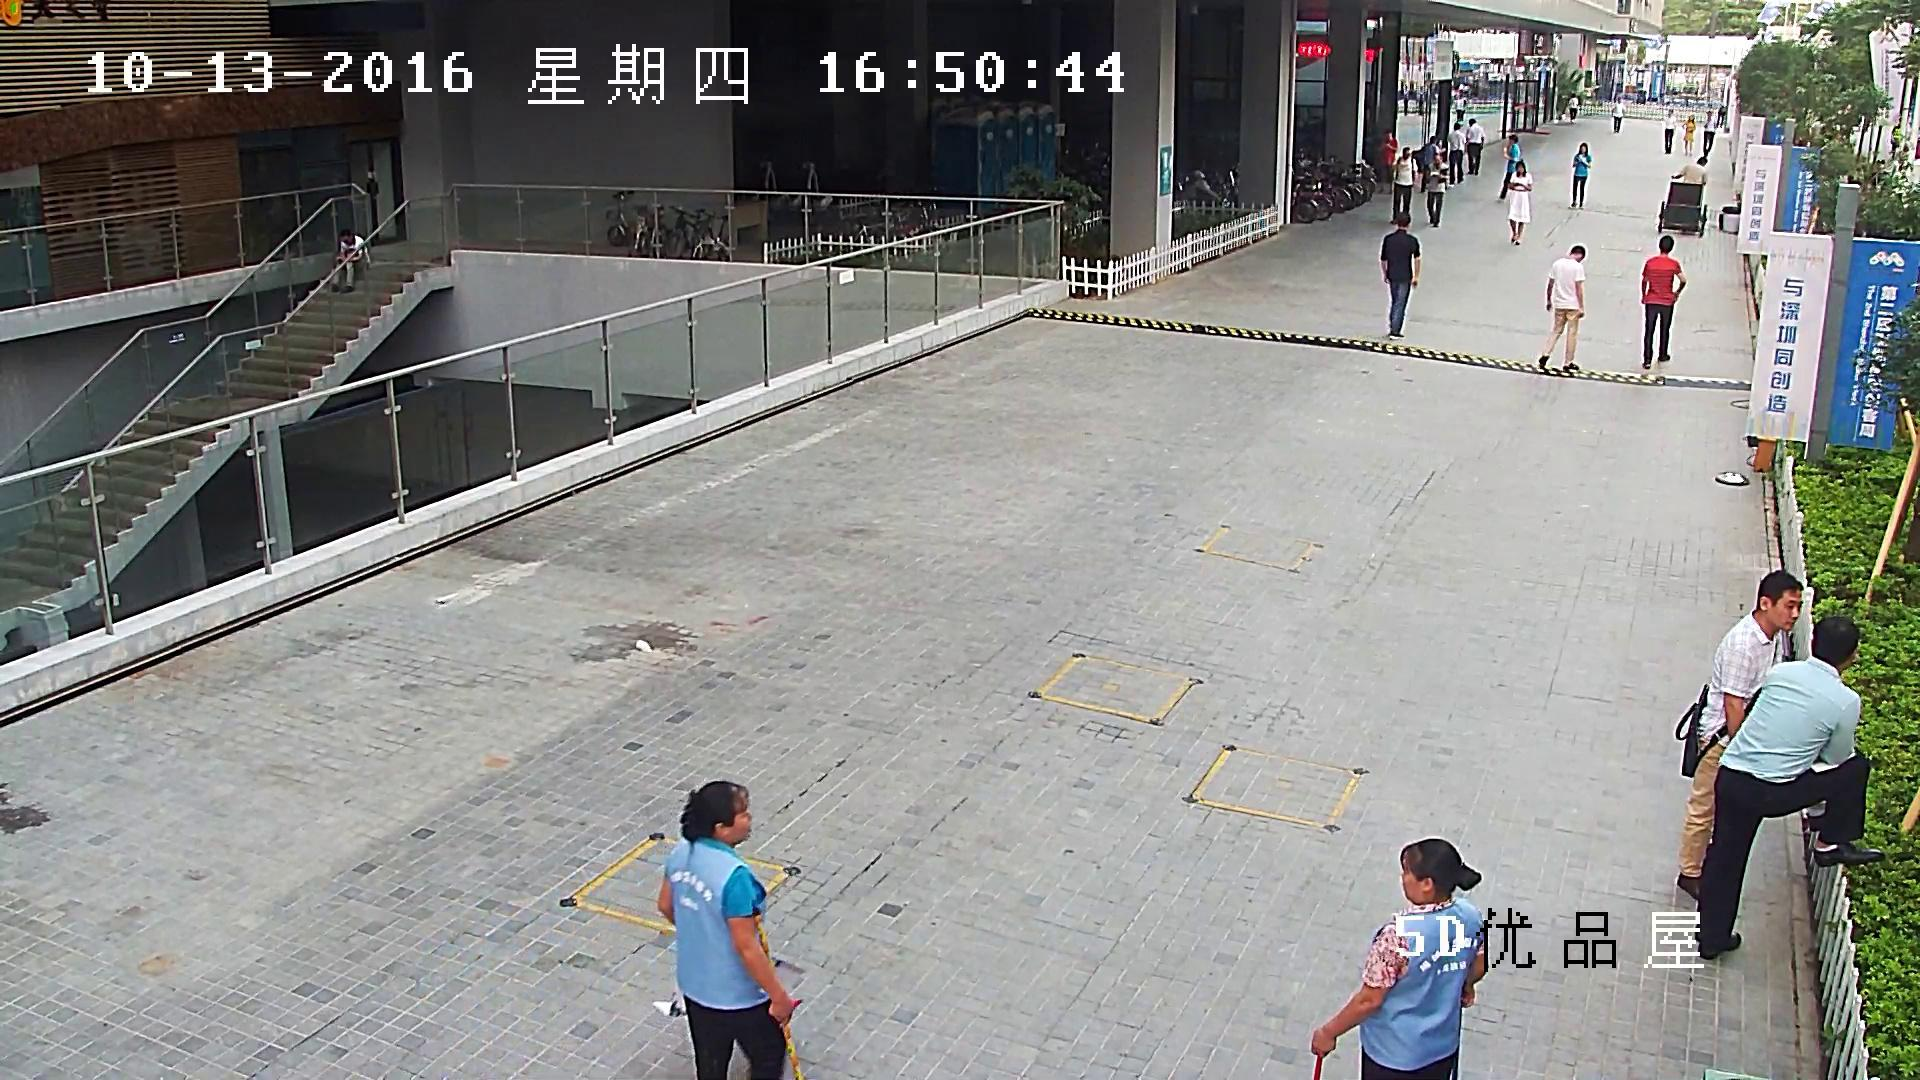person: (1695, 617, 1882, 959), (1676, 570, 1826, 901), (656, 780, 799, 1080), (657, 780, 801, 1080), (1311, 838, 1484, 1080), (1641, 235, 1686, 369), (1539, 245, 1585, 370), (1379, 212, 1420, 338), (1658, 156, 1707, 236), (330, 228, 370, 293), (1506, 158, 1532, 245), (1390, 146, 1416, 224), (1425, 153, 1449, 227), (1412, 135, 1439, 193), (1499, 134, 1521, 199), (1571, 142, 1591, 206), (1377, 128, 1397, 194), (1447, 122, 1465, 185), (1466, 119, 1485, 176), (1673, 156, 1707, 184), (1680, 115, 1696, 155), (1703, 111, 1716, 157), (1664, 109, 1676, 154), (1612, 95, 1625, 133), (1453, 89, 1466, 121), (1567, 93, 1578, 121), (1717, 103, 1726, 127)
